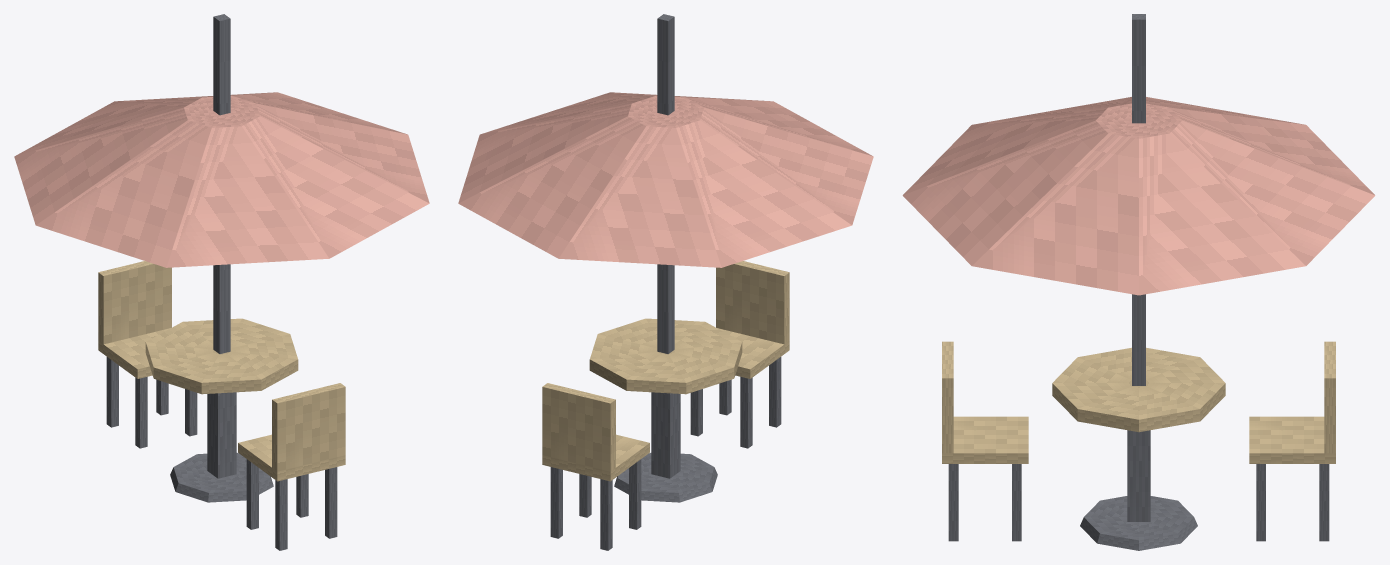
File: pixel-modern-city-street-cafe-table-and-chairs-c3af7747__29051.glb
3 views of the same model, side by side, from view 1: azimuth 30°, elevation 25°; view 2: azimuth 150°, elevation 25°; view 3: azimuth 270°, elevation 25° (orthographic). The views are drawn at different scales.
Visible parts, largest first — view 1: cafe-table-and-chairs; view 2: cafe-table-and-chairs; view 3: cafe-table-and-chairs.
Boxes of the visible parts, bbox=[...] form: cafe-table-and-chairs: bbox=[14, 14, 429, 550]; cafe-table-and-chairs: bbox=[458, 14, 873, 550]; cafe-table-and-chairs: bbox=[902, 14, 1375, 550].
Bounding box in the file's own units: 2.4 × 2.85 × 2.4.
Materials: 3 (3 with a texture image).
